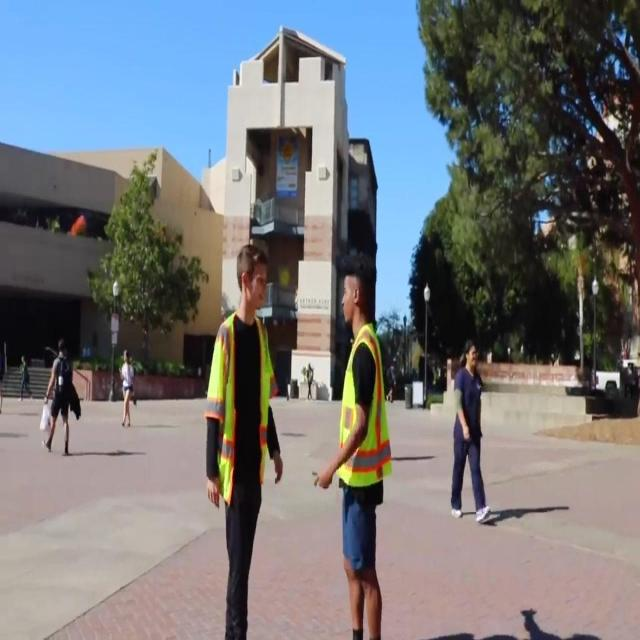Vest: (202, 311, 274, 502), (338, 321, 393, 486)
